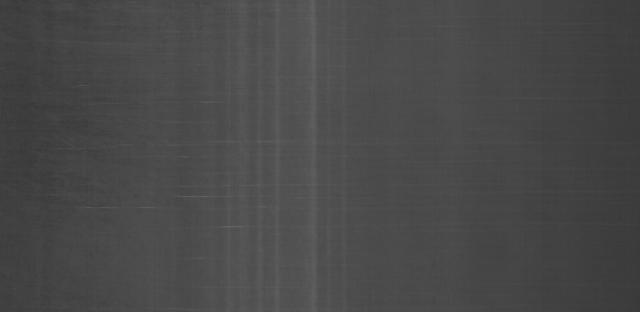waist_folding: (154, 18, 360, 312)
